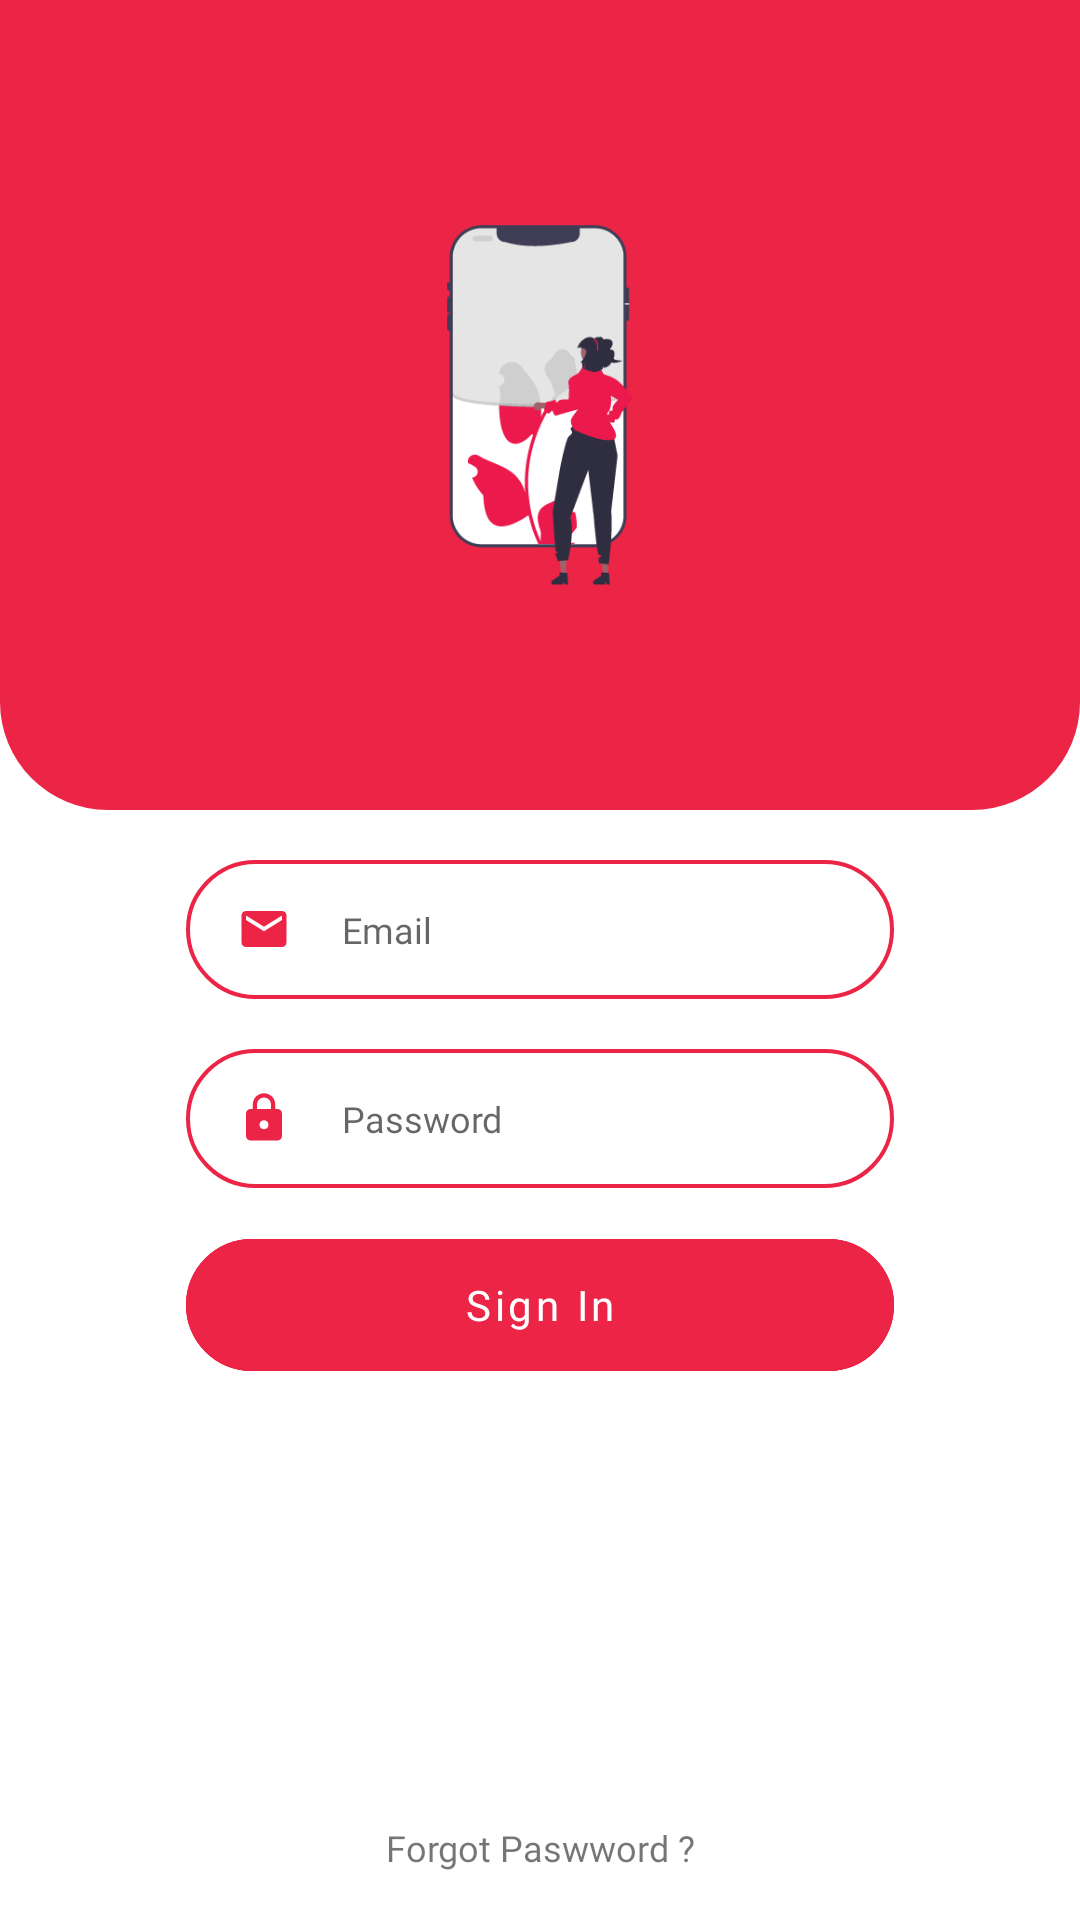

Where to tap for icons on this 1080x1920 app screen, as (x,y):
auth art: (538,405)
lock: (264,1117)
